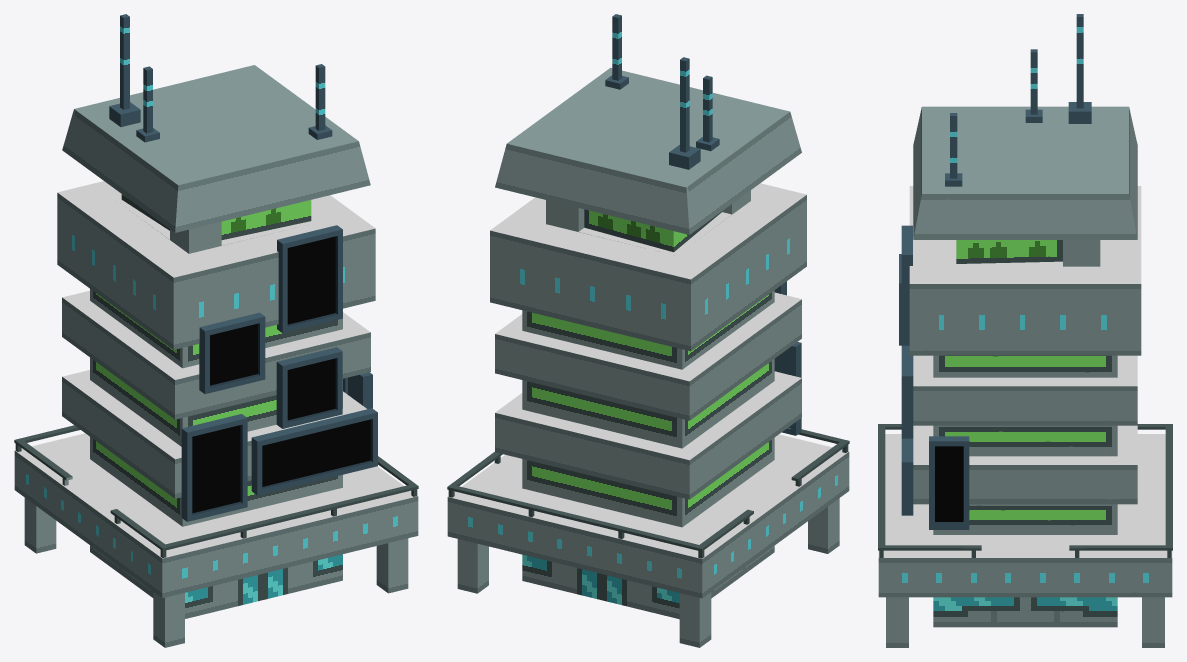
File: Building_3_1x1.gltf
The picture shows the model from 3 angles, left to right: view 1: azimuth 30°, elevation 25°; view 2: azimuth 150°, elevation 25°; view 3: azimuth 270°, elevation 25°; orthographic projection.
Parts seen in each view (by area): view 1: Building, Signs.004, Signs.003, Signs.001, Signs.005, Signs.002, Signs.006; view 2: Building, Signs.003; view 3: Building, Signs.006, Signs.001, Signs.005, Signs.004.
Part boxes in pixels (box(x1,y1,x2,y2)): Building: box(14, 14, 418, 647); Signs.004: box(251, 408, 377, 495); Signs.003: box(181, 414, 247, 521); Signs.001: box(277, 225, 342, 333); Signs.005: box(276, 347, 342, 428); Signs.002: box(199, 312, 265, 393); Signs.006: box(343, 372, 372, 409); Building: box(447, 14, 849, 647); Signs.003: box(774, 342, 801, 435); Building: box(878, 14, 1172, 647); Signs.006: box(929, 436, 969, 529); Signs.001: box(901, 225, 912, 343); Signs.005: box(901, 347, 913, 438); Signs.004: box(901, 438, 913, 515).
Size of the model in its own units: 12.78 by 26.01 by 12.81.
Materials: 1 (1 with a texture image).
